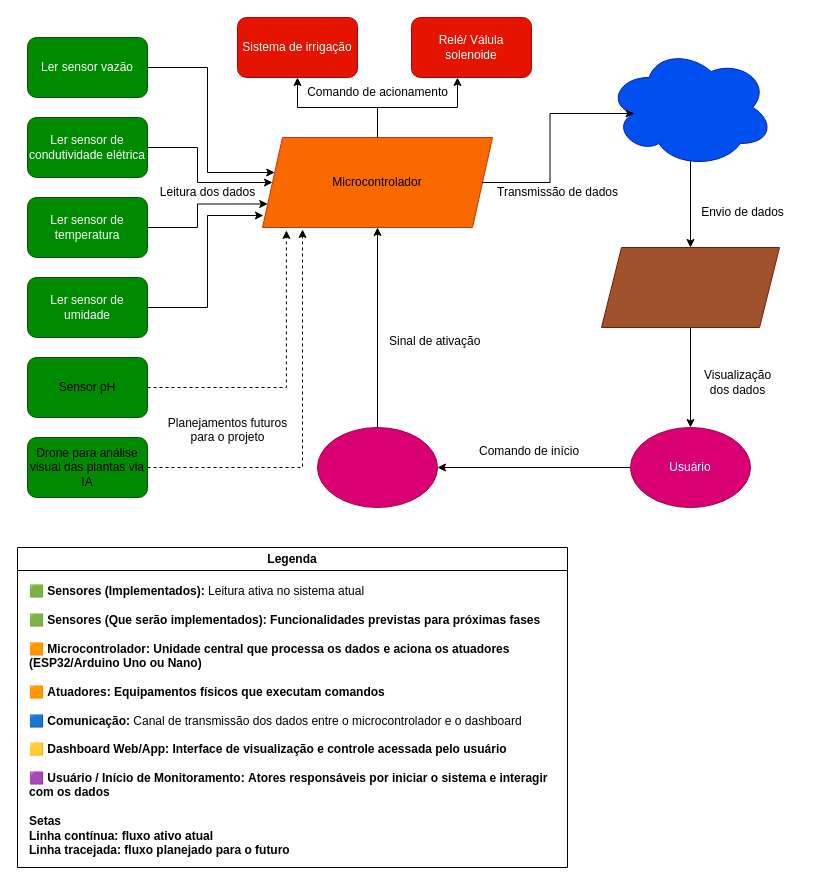
Image size: 830x885. Some labels were removed from this diagram. The shapes that lost their labels are listed below. From the top down, each one's centre as x and y in pixels, then its label:
At pixel 690 107: "LoRa/ Wi-Fi ou BLuetooth".
At pixel 690 287: "Enviar para o dashboard web / app".
At pixel 377 467: "Iniciar monitoramento".
